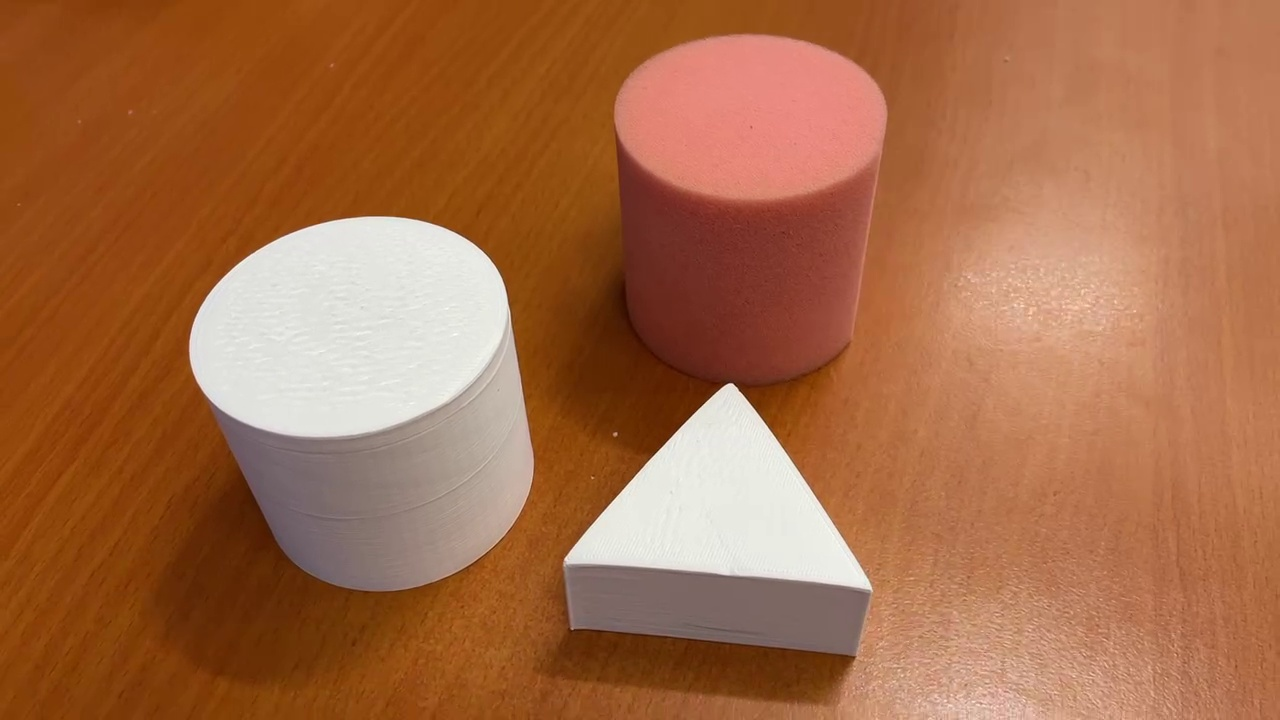Cylinder: (180, 210, 544, 602), (607, 26, 891, 400)
Triangle_short: (558, 374, 877, 669)
